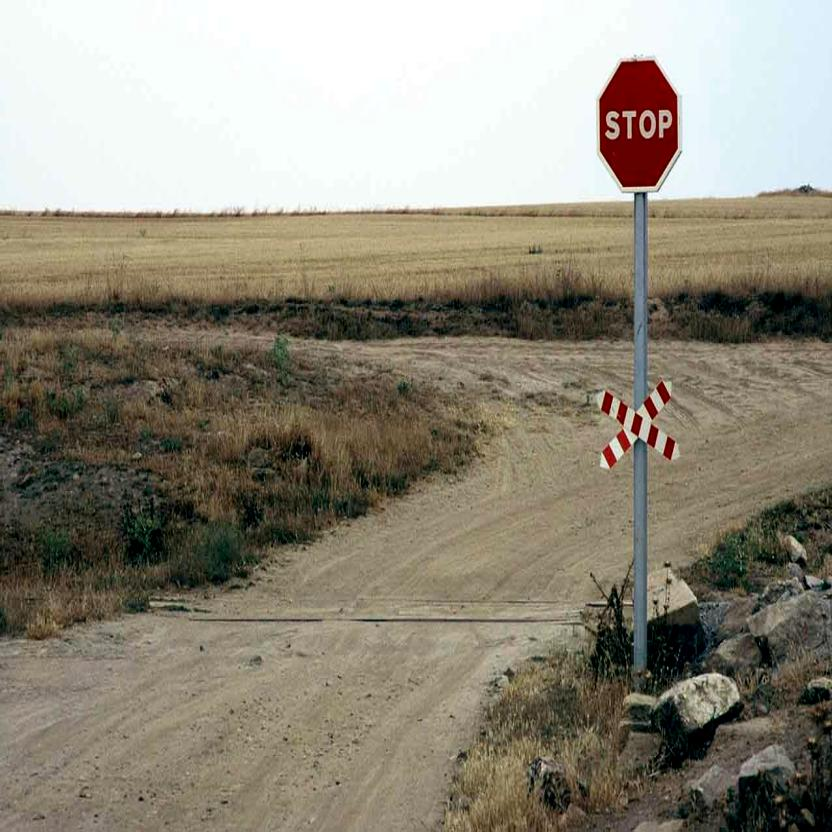Pole: (633, 198, 649, 680)
Sign: (596, 59, 682, 189)
